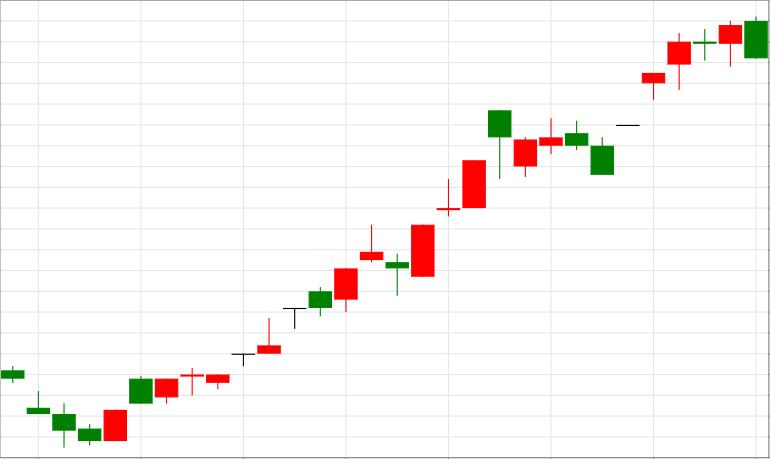hanging_man_fall: (411, 110, 512, 278)
